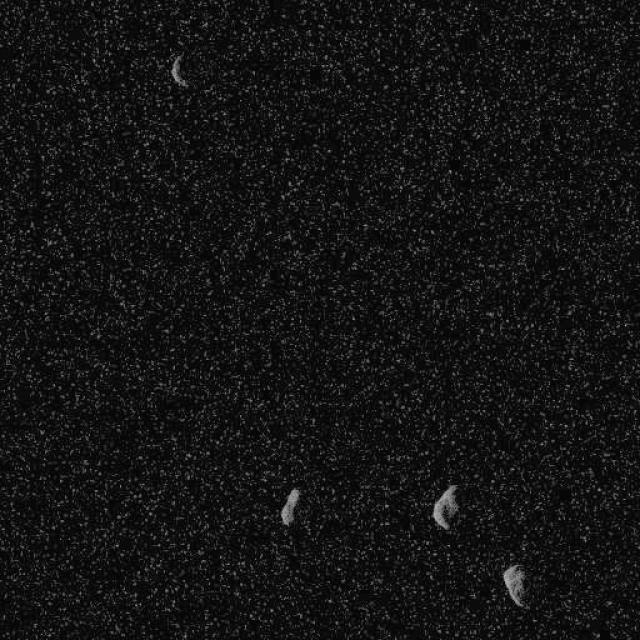D2: (430, 484, 460, 530), (501, 562, 529, 608), (279, 486, 300, 526), (168, 50, 188, 88)
